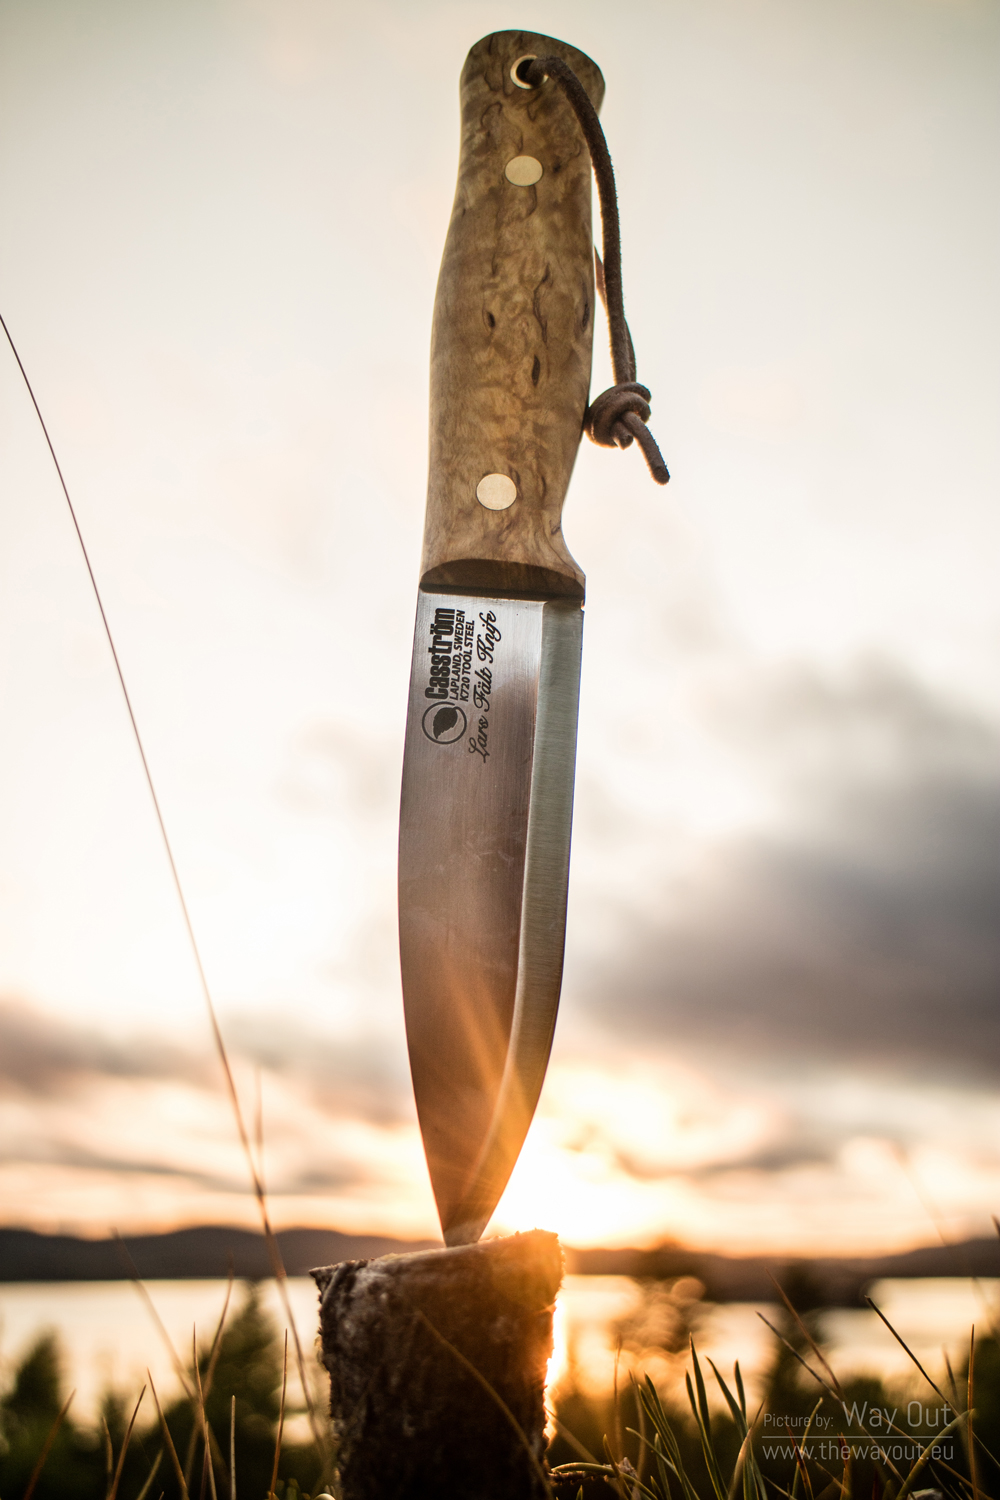knife: (356, 19, 640, 1275)
